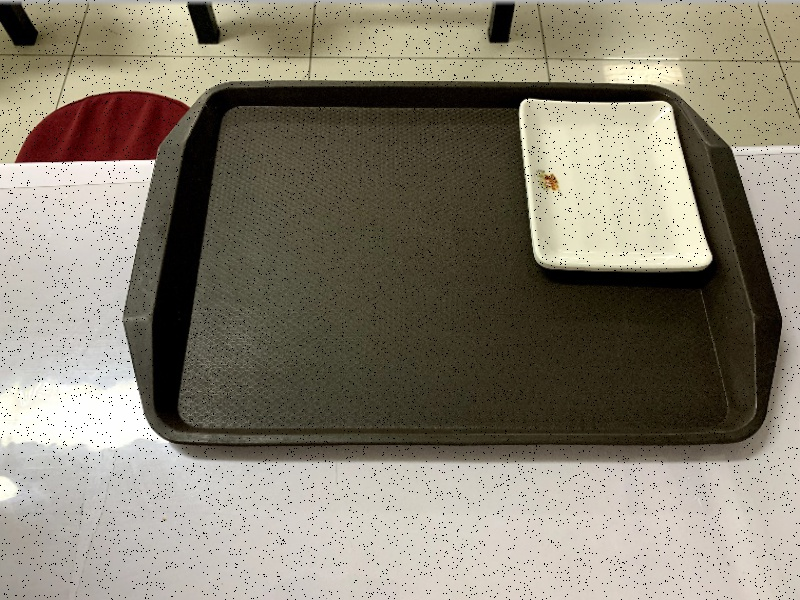dish4: (515, 90, 715, 281)
